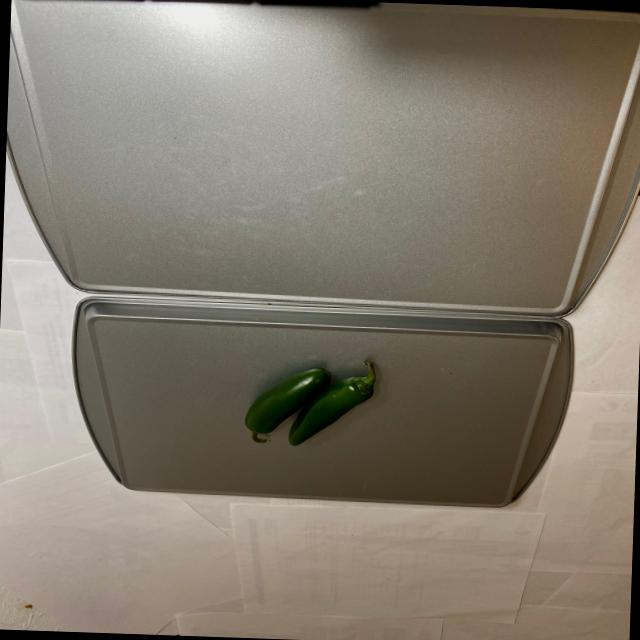chilli: (241, 354, 385, 449)
